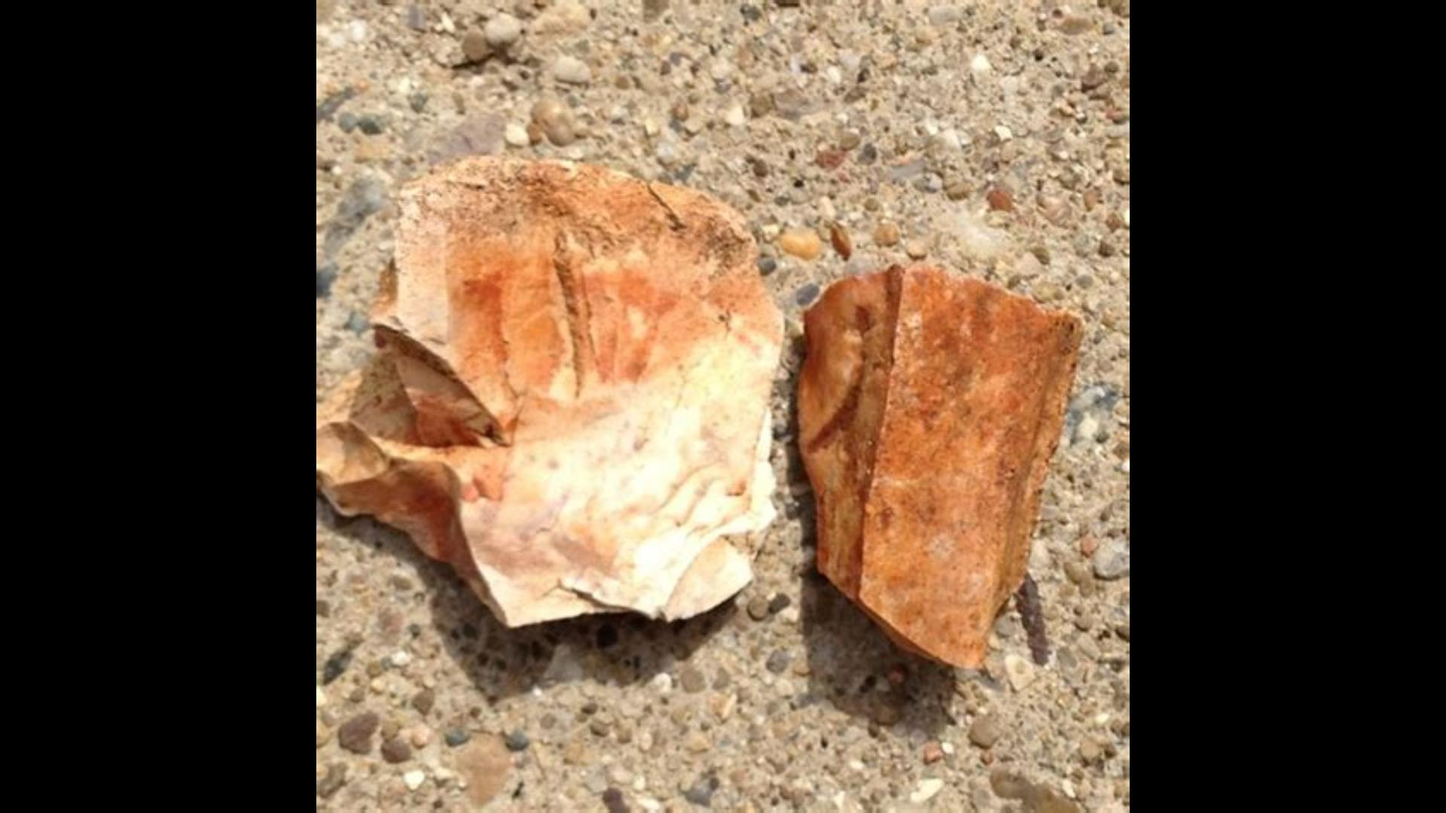rock: (318, 158, 781, 624), (799, 276, 1076, 666)
